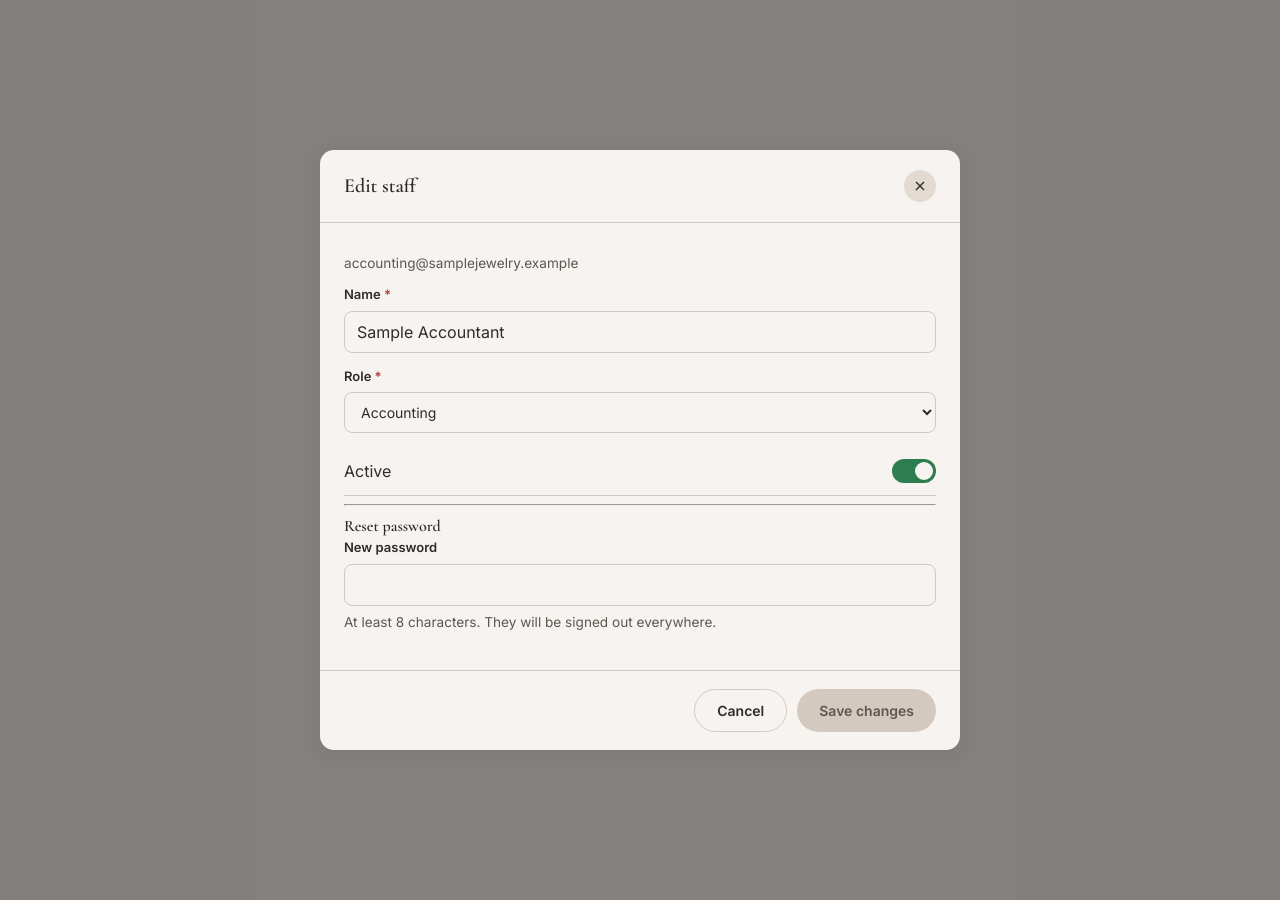
it: EditStaffModal › requires an 8 character new password
In the password field labelled "New password": (640, 585) [344,564,936,606], type "short"
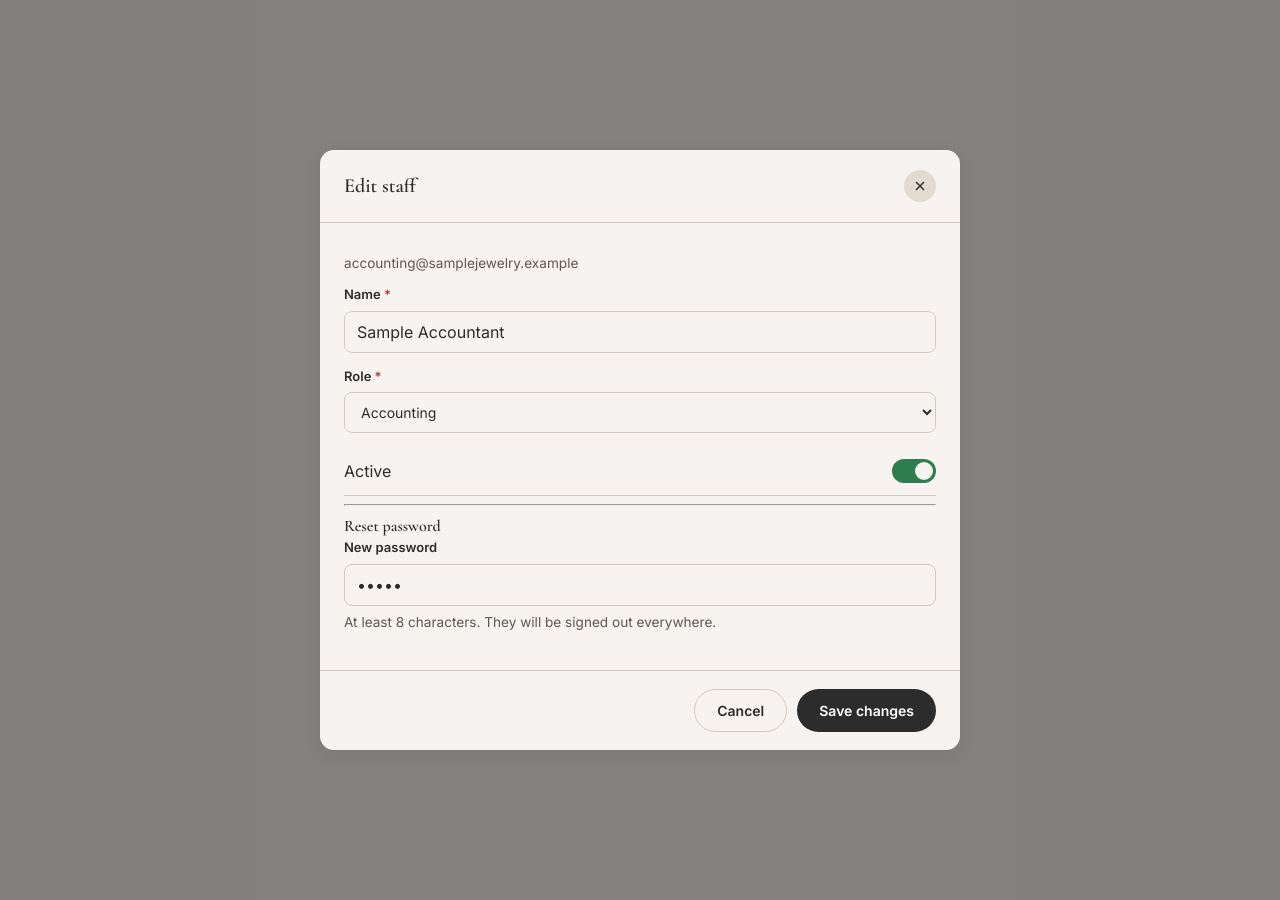
Click the button "Save changes": (867, 711) [797,689,936,732]
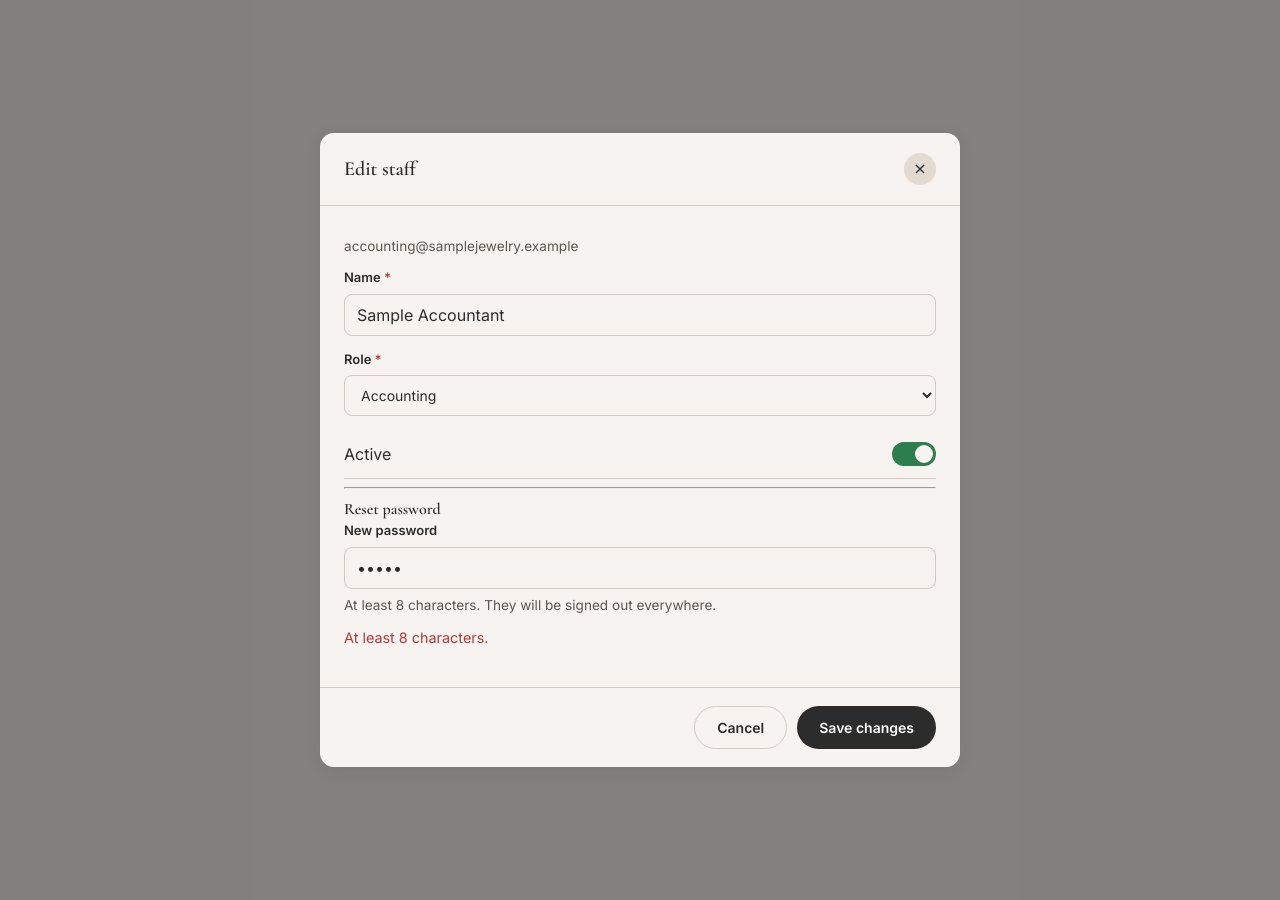
Now the text "At least 8 characters." is shown, box [344,629,488,646]
